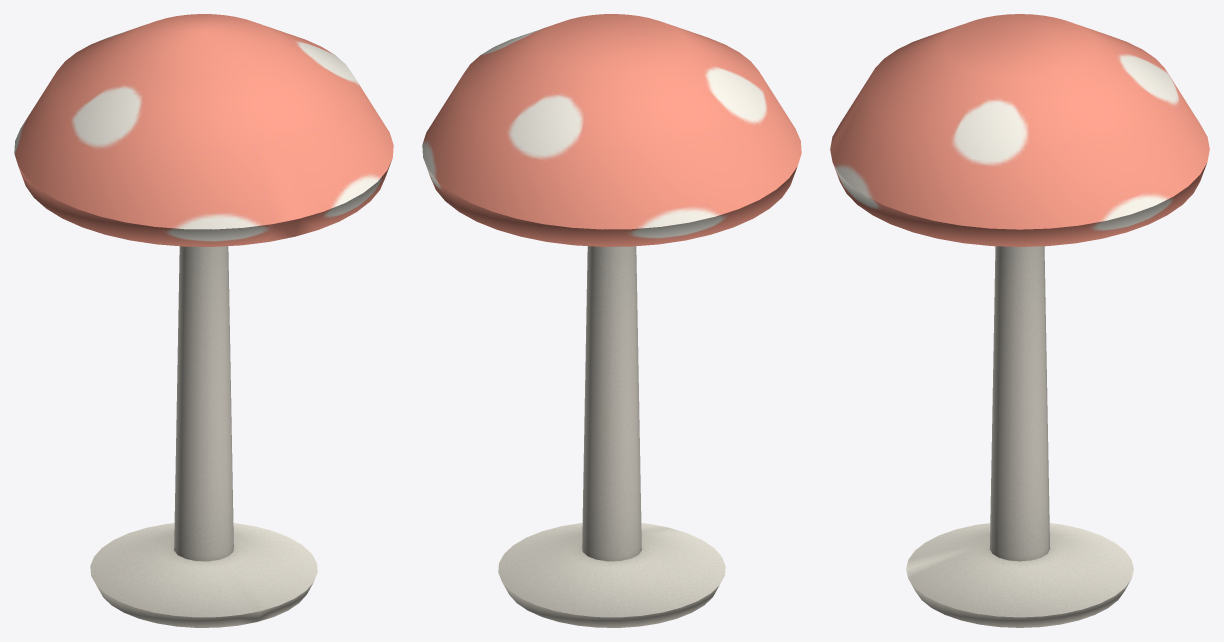
The model's file is floor_lamp.glb.
The picture shows the model from 3 angles, left to right: view 1: azimuth 30°, elevation 25°; view 2: azimuth 150°, elevation 25°; view 3: azimuth 270°, elevation 25°; orthographic projection.
Visible parts, largest first — view 1: floor_lamp; view 2: floor_lamp; view 3: floor_lamp.
Boxes of the visible parts, x1,y1,x2,y2 form: floor_lamp: (14,14,393,627); floor_lamp: (422,14,801,627); floor_lamp: (830,14,1209,627).
Bounding box in the file's own units: 0.5 × 0.8 × 0.5.
1 material, 1 textured.
